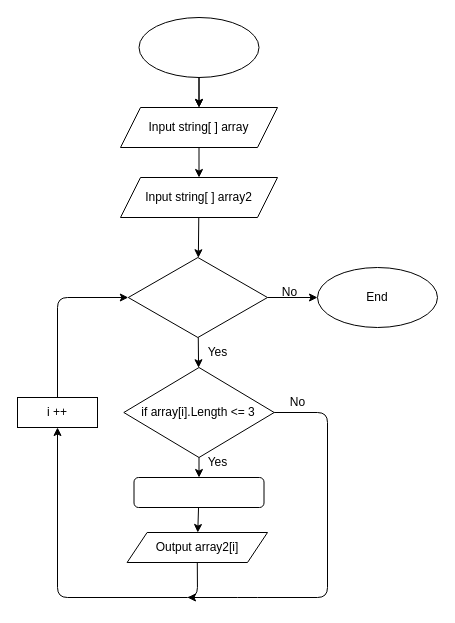
Some shapes in this 455 by 623 pixel diagram are drawn without their labels. The shapes that lost their labels are listed below. From the top down, each one's centre as x and y in pixels, then its label:
(198,47): Start
(197,297): i = 0 i < array.Length
(198,492): array2[i] = array[i]
